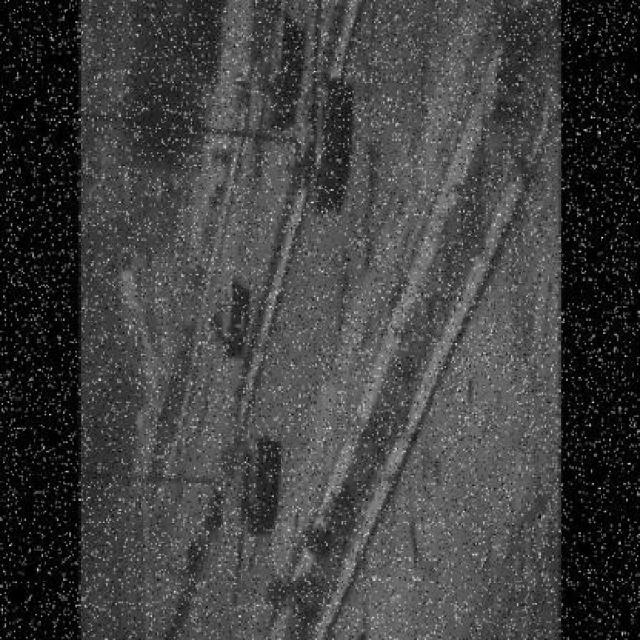Tank: (283, 1, 356, 233), (227, 426, 287, 613), (246, 1, 313, 149), (203, 266, 257, 370)
